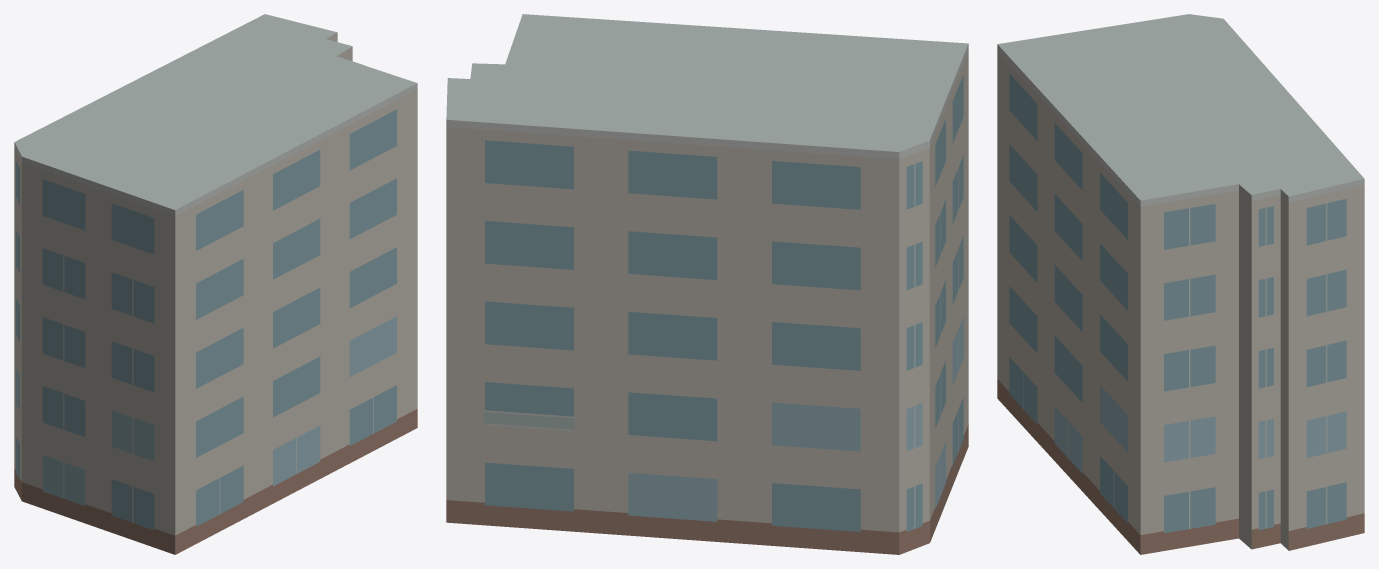
Rendered from survey-upis-32834615.glb.
3 views of the same model, side by side, from view 1: azimuth 30°, elevation 25°; view 2: azimuth 150°, elevation 25°; view 3: azimuth 270°, elevation 25° (orthographic). The views are drawn at different scales.
Parts seen in each view (by area): view 1: survey-upis-32834615.tmp; view 2: survey-upis-32834615.tmp; view 3: survey-upis-32834615.tmp.
Boxes of the visible parts, left/top/right/bottom form: survey-upis-32834615.tmp: left=14, top=14, right=417, bottom=554; survey-upis-32834615.tmp: left=446, top=14, right=968, bottom=554; survey-upis-32834615.tmp: left=997, top=14, right=1364, bottom=554.
Bounding box in the file's own units: 15.37 × 13.6 × 12.78.
